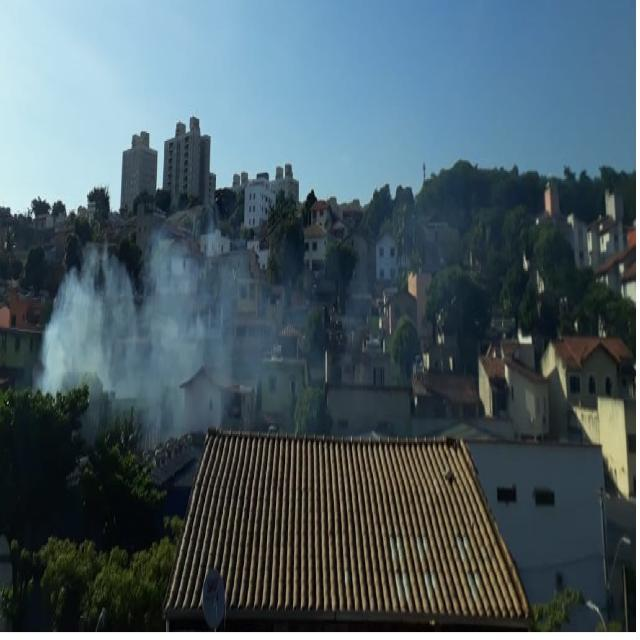Smoke: (32, 220, 296, 446)
